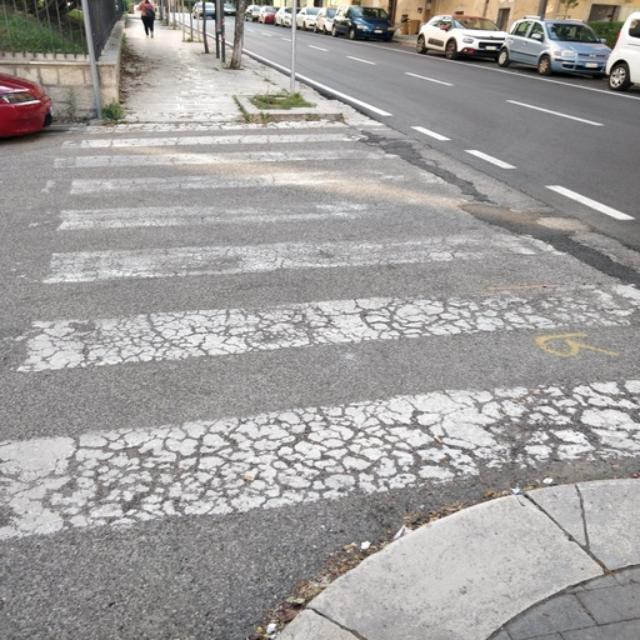sidewalk: (0, 113, 640, 538)
